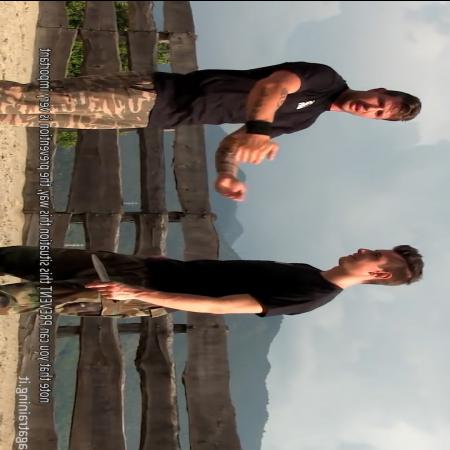long weapon: (84, 250, 127, 306)
